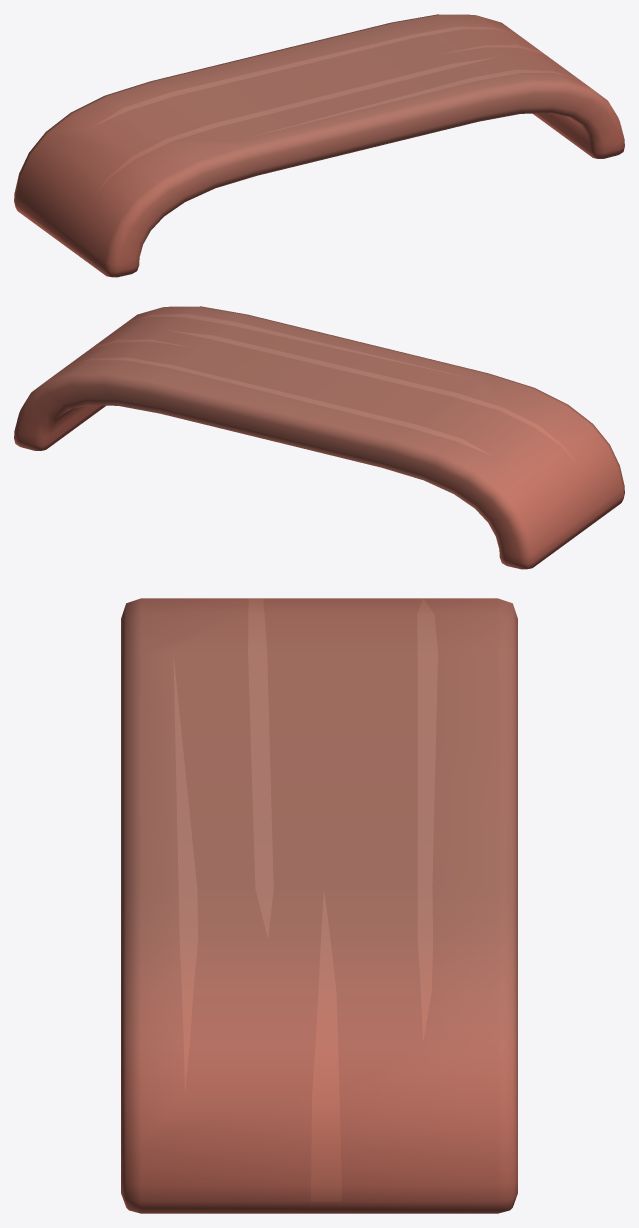
File: stand_smile.fbx
3 views of the same model, one above another, from view 1: azimuth 30°, elevation 25°; view 2: azimuth 150°, elevation 25°; view 3: azimuth 270°, elevation 25° (orthographic). The views are drawn at different scales.
Parts seen in each view (by area): view 1: Stand; view 2: Stand; view 3: Stand.
Part boxes in pixels (x1,y1,x2,y2): Stand: (14,14,624,277); Stand: (14,306,624,569); Stand: (121,598,517,1213).
Bounding box in the file's own units: 155 × 51.4 × 28.16.
